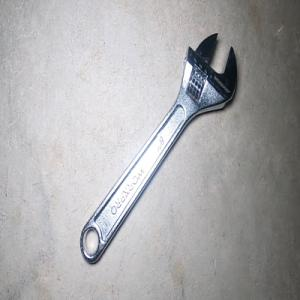Wrench: (79, 32, 237, 263)
